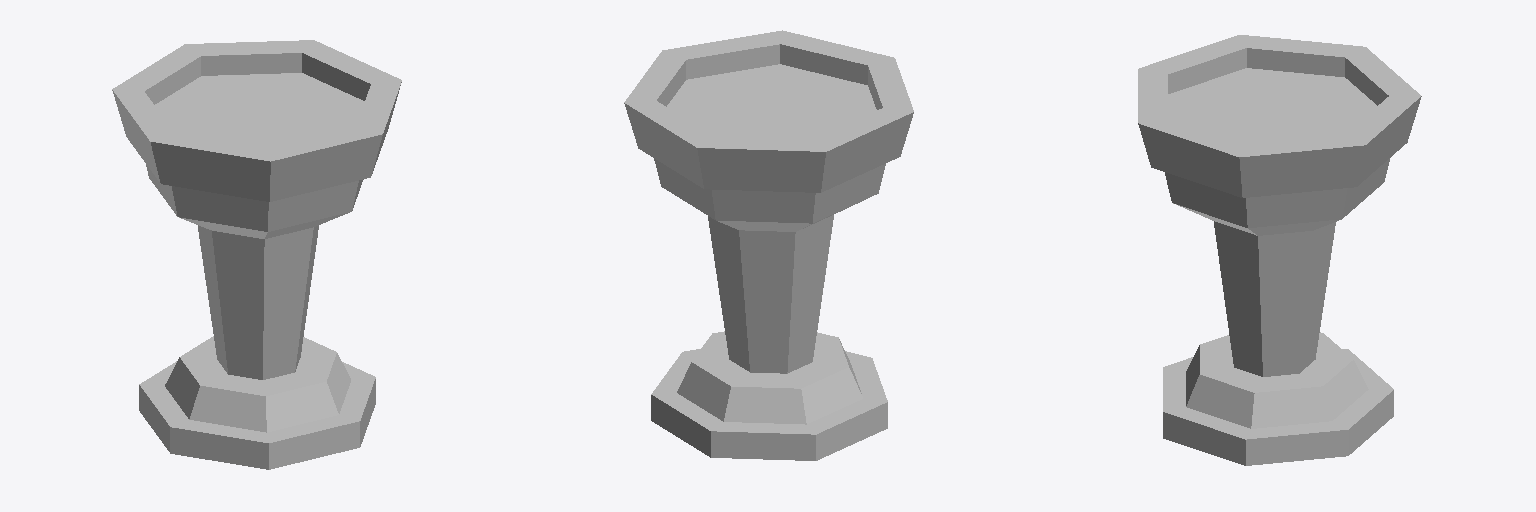
Rendered from ManaFount.obj.
The picture shows the model from 3 angles: view 1: azimuth 30°, elevation 25°; view 2: azimuth 150°, elevation 25°; view 3: azimuth 270°, elevation 25°; orthographic projection.
Parts seen in each view (by area): view 1: Statue2.001; view 2: Statue2.001; view 3: Statue2.001.
Part boxes in pixels (left/top/right/bottom): Statue2.001: left=112, top=40, right=401, bottom=469; Statue2.001: left=624, top=30, right=913, bottom=460; Statue2.001: left=1138, top=35, right=1421, bottom=465.
Size of the model in its own units: 0.4439 by 0.5386 by 0.4328.